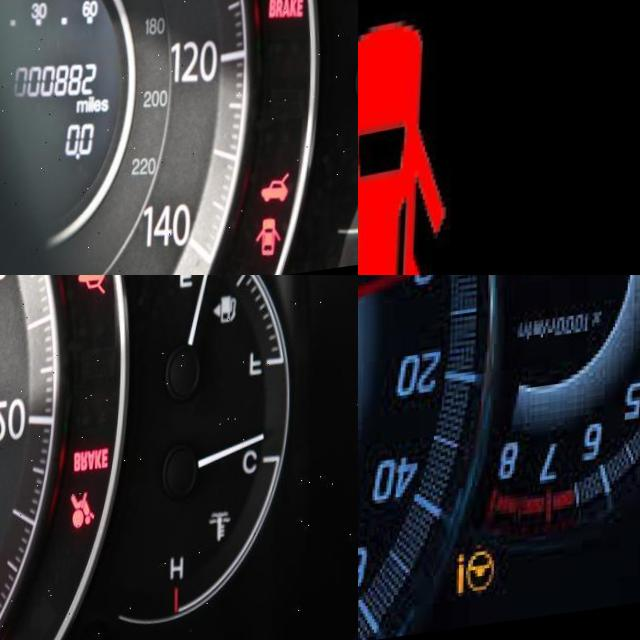Electronic Power Steering: (453, 551, 498, 602)
